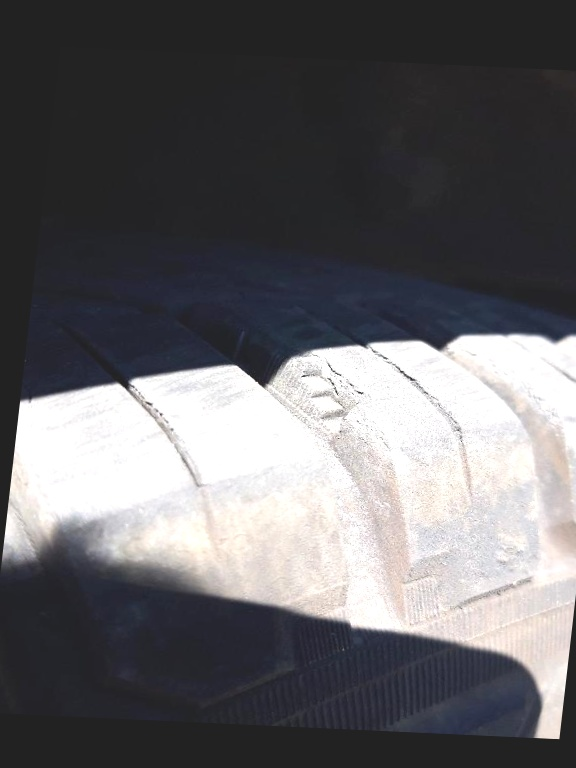temoin:80: (260, 342, 381, 446)
